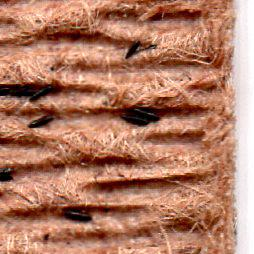egg: (128, 105, 158, 121), (119, 115, 151, 128), (63, 208, 91, 219), (29, 115, 54, 127), (9, 88, 39, 97), (30, 88, 52, 100), (126, 41, 139, 58), (1, 163, 15, 175), (0, 85, 13, 96)
